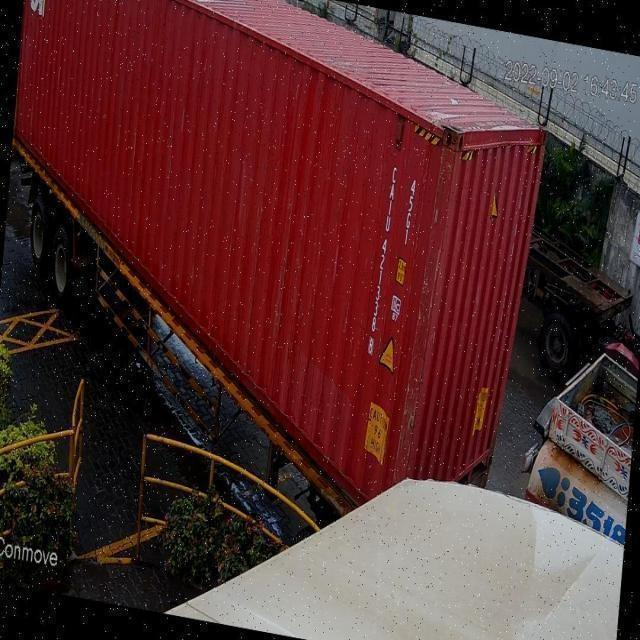cardboard box: (524, 438, 626, 547)
forklift: (524, 128, 635, 388)
freight container: (10, 1, 547, 516)
